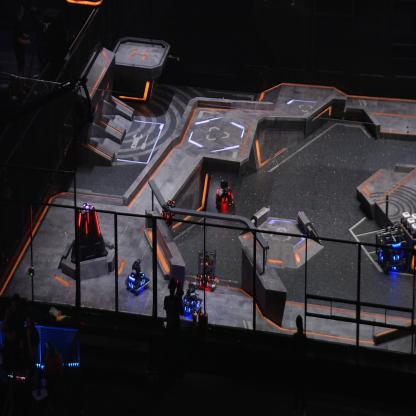car: (376, 223, 408, 272), (193, 248, 218, 291), (125, 258, 151, 293), (179, 280, 203, 316), (215, 177, 234, 207)
